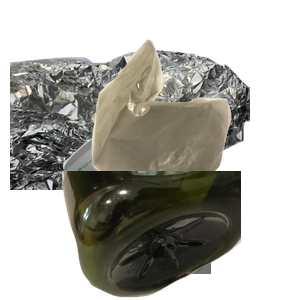glass: (60, 120, 300, 300)
metal: (10, 47, 250, 227)
plastic: (60, 171, 300, 300)
trash: (89, 37, 300, 213)
